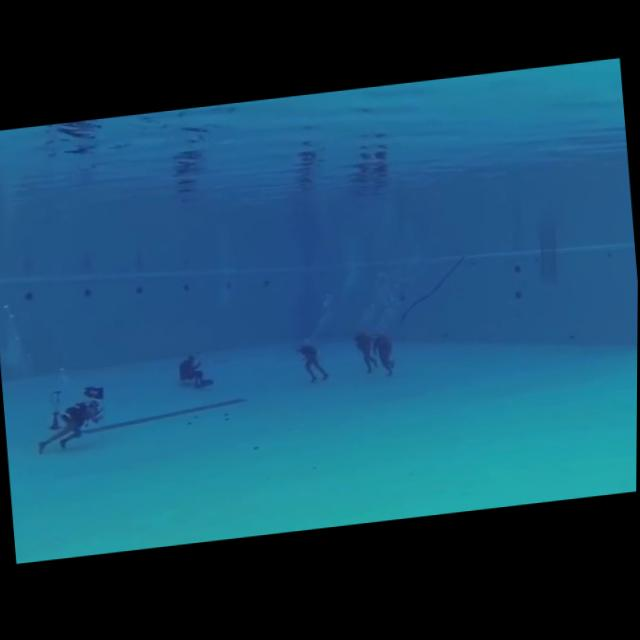human: (25, 378, 116, 461), (290, 332, 338, 392), (171, 346, 219, 402), (371, 326, 408, 384), (348, 326, 384, 382)
